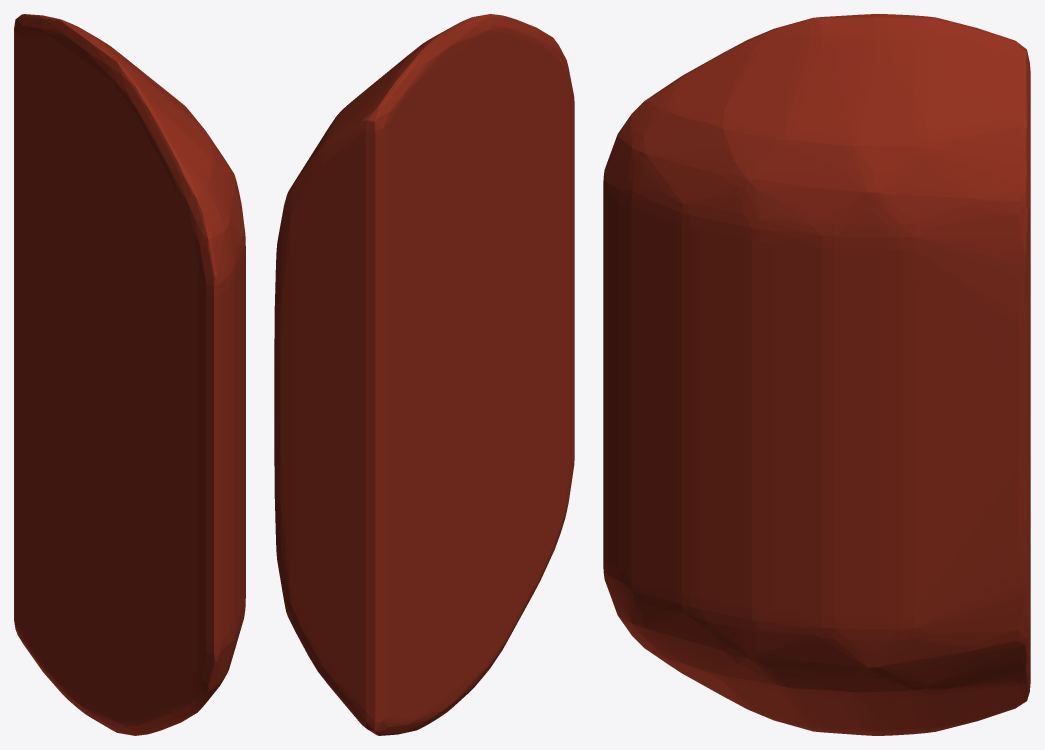
File: left_th_middle_part_15.obj
The picture shows the model from 3 angles, left to right: view 1: azimuth 30°, elevation 25°; view 2: azimuth 150°, elevation 25°; view 3: azimuth 270°, elevation 25°; orthographic projection. The views are drawn at different scales.
Bounding box in the file's own units: 3.93 × 21.09 × 11.38.
